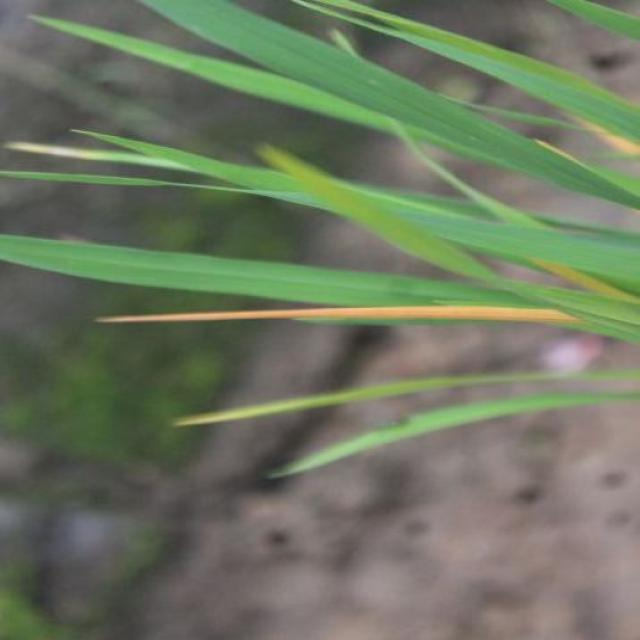Rice Tungro: (68, 290, 567, 345)
